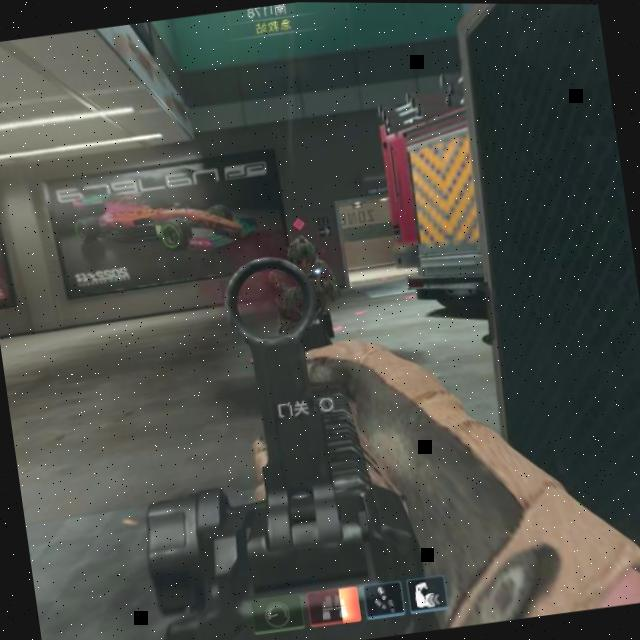MW2_body: (262, 213, 346, 337)
